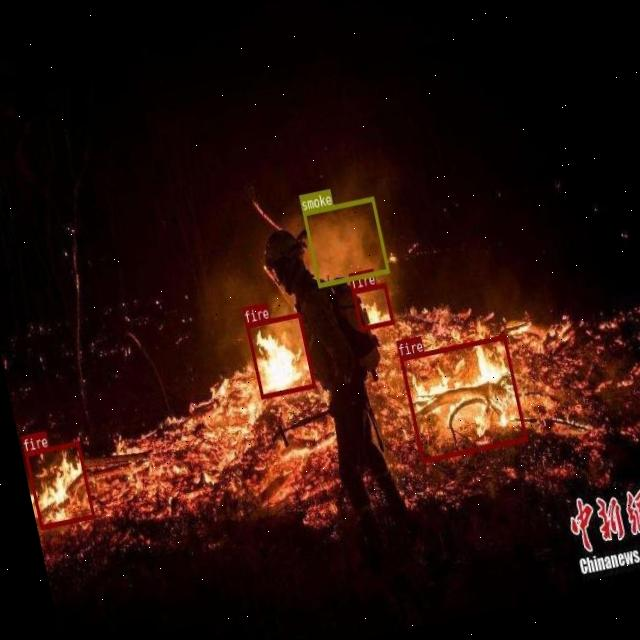fire: (398, 333, 526, 462), (23, 440, 94, 529), (245, 311, 316, 398), (350, 282, 393, 330)
smoke: (302, 196, 389, 288)
